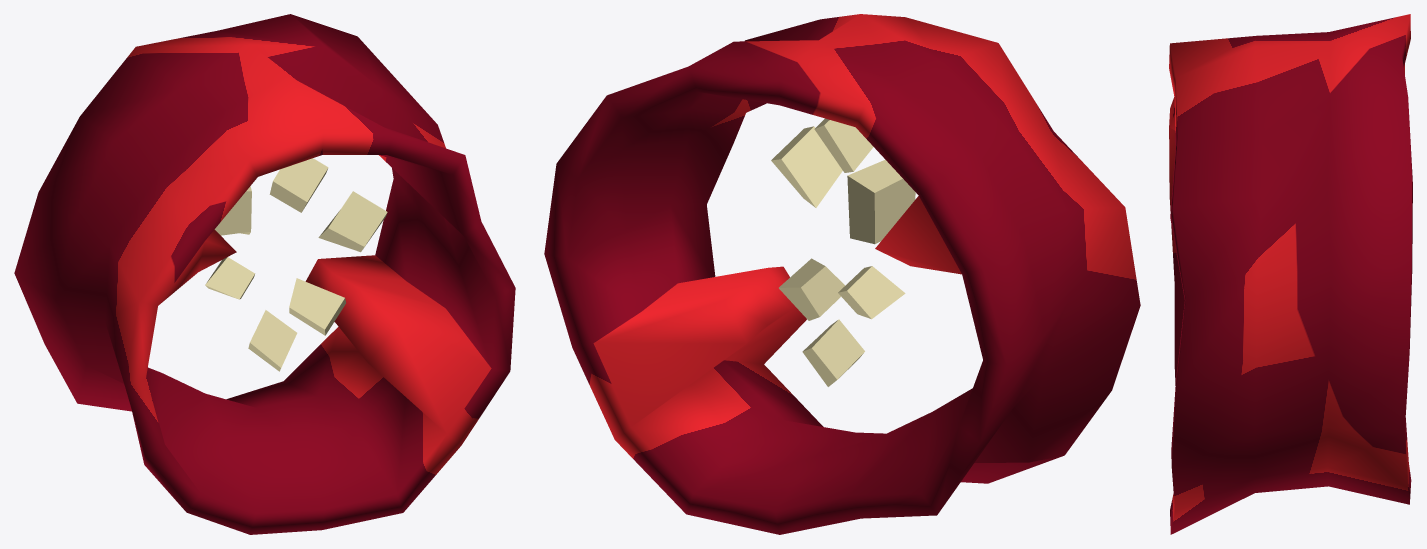
Rendered from chiliPiece.fbx.
The picture shows the model from 3 angles, left to right: view 1: azimuth 30°, elevation 25°; view 2: azimuth 150°, elevation 25°; view 3: azimuth 270°, elevation 25°; orthographic projection. The views are drawn at different scales.
Visible parts, largest first — view 1: Cylinder; view 2: Cylinder; view 3: Cylinder.
Part boxes in pixels (x1,y1,x2,y2): Cylinder: (14,14,515,534); Cylinder: (544,14,1140,534); Cylinder: (1169,14,1412,534).
Size of the model in its own units: 98.04 by 100 by 48.89.
